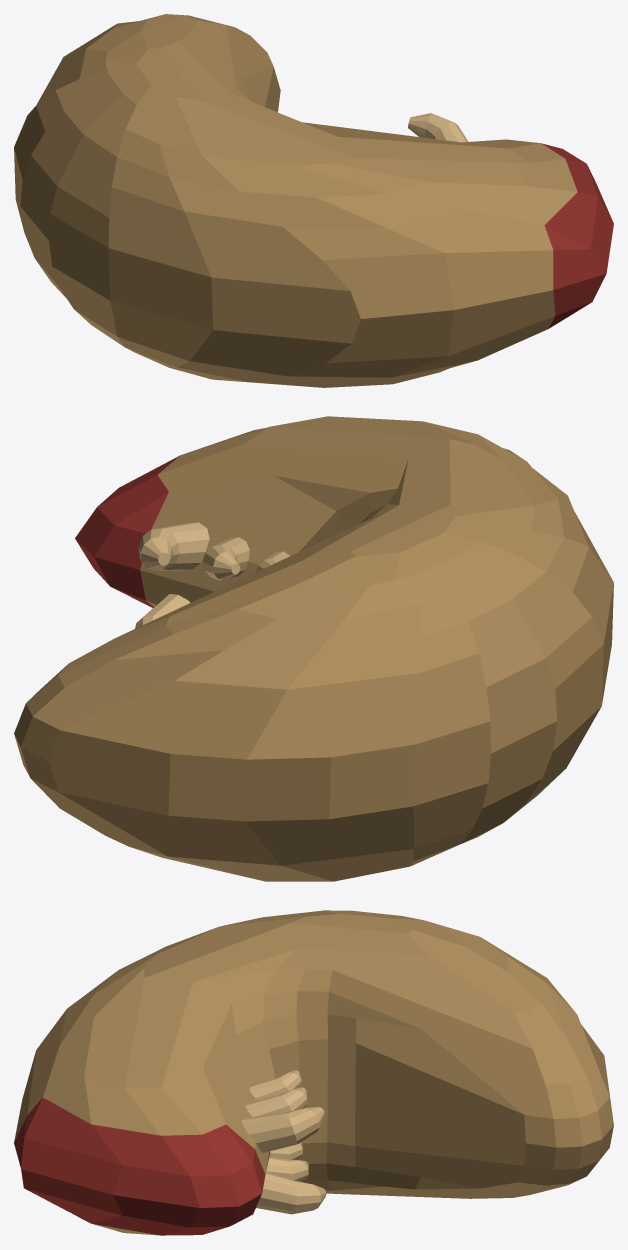
The model's file is grubBug.fbx.
3 views of the same model, one above another, from view 1: azimuth 30°, elevation 25°; view 2: azimuth 150°, elevation 25°; view 3: azimuth 270°, elevation 25° (orthographic). The views are drawn at different scales.
Parts seen in each view (by area): view 1: Sphere, Cylinder.002; view 2: Sphere, Cylinder.002; view 3: Sphere, Cylinder.002.
Boxes of the visible parts, x1,y1,x2,y2 form: Sphere: [14, 14, 613, 387]; Cylinder.002: [408, 113, 468, 142]; Sphere: [14, 416, 613, 881]; Cylinder.002: [135, 522, 289, 628]; Sphere: [14, 910, 613, 1235]; Cylinder.002: [241, 1070, 326, 1214].
Bounding box in the file's own units: 67.56 × 36.61 × 79.64.
